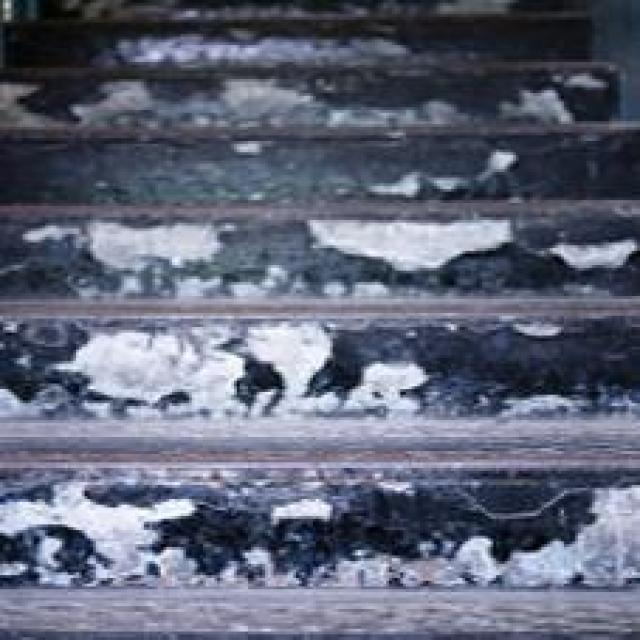upstair: (52, 190, 534, 522)
